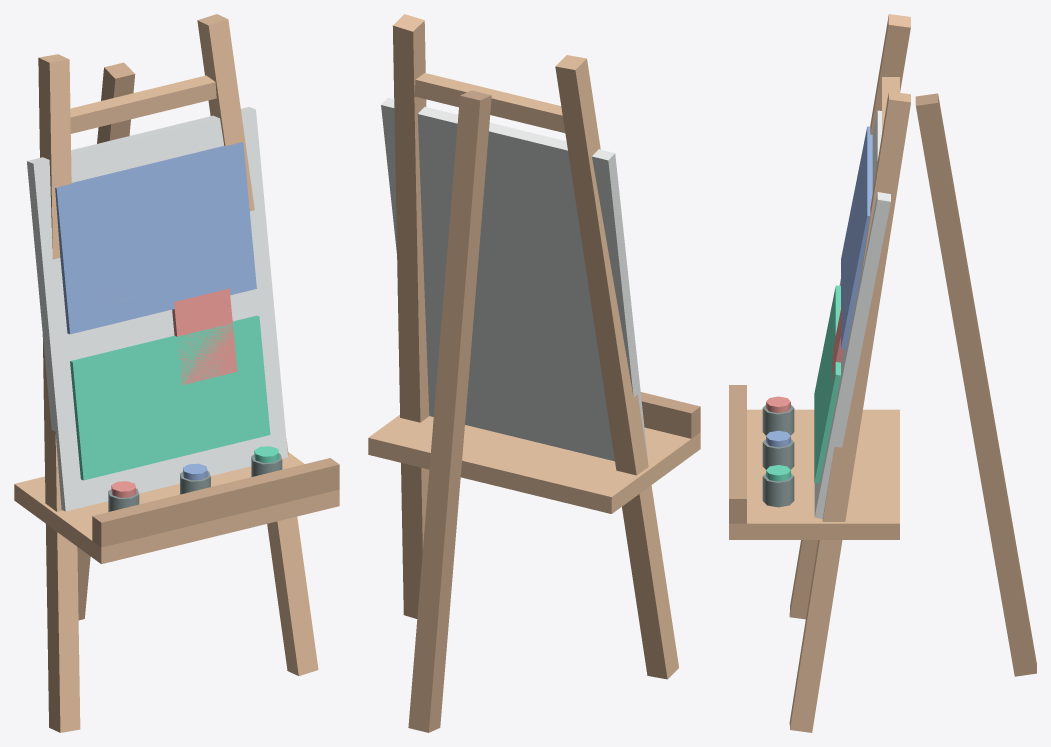
File: easel.glb
The picture shows the model from 3 angles, left to right: view 1: azimuth 30°, elevation 25°; view 2: azimuth 150°, elevation 25°; view 3: azimuth 270°, elevation 25°; orthographic projection. The views are drawn at different scales.
Visible parts, largest first — view 1: easel; view 2: easel; view 3: easel.
Boxes of the visible parts, box(x1,y1,x2,y2) form: easel: box(14, 14, 339, 732); easel: box(368, 14, 700, 732); easel: box(729, 14, 1036, 732).
Bounding box in the file's own units: 0.3249 × 0.7553 × 0.3423.
